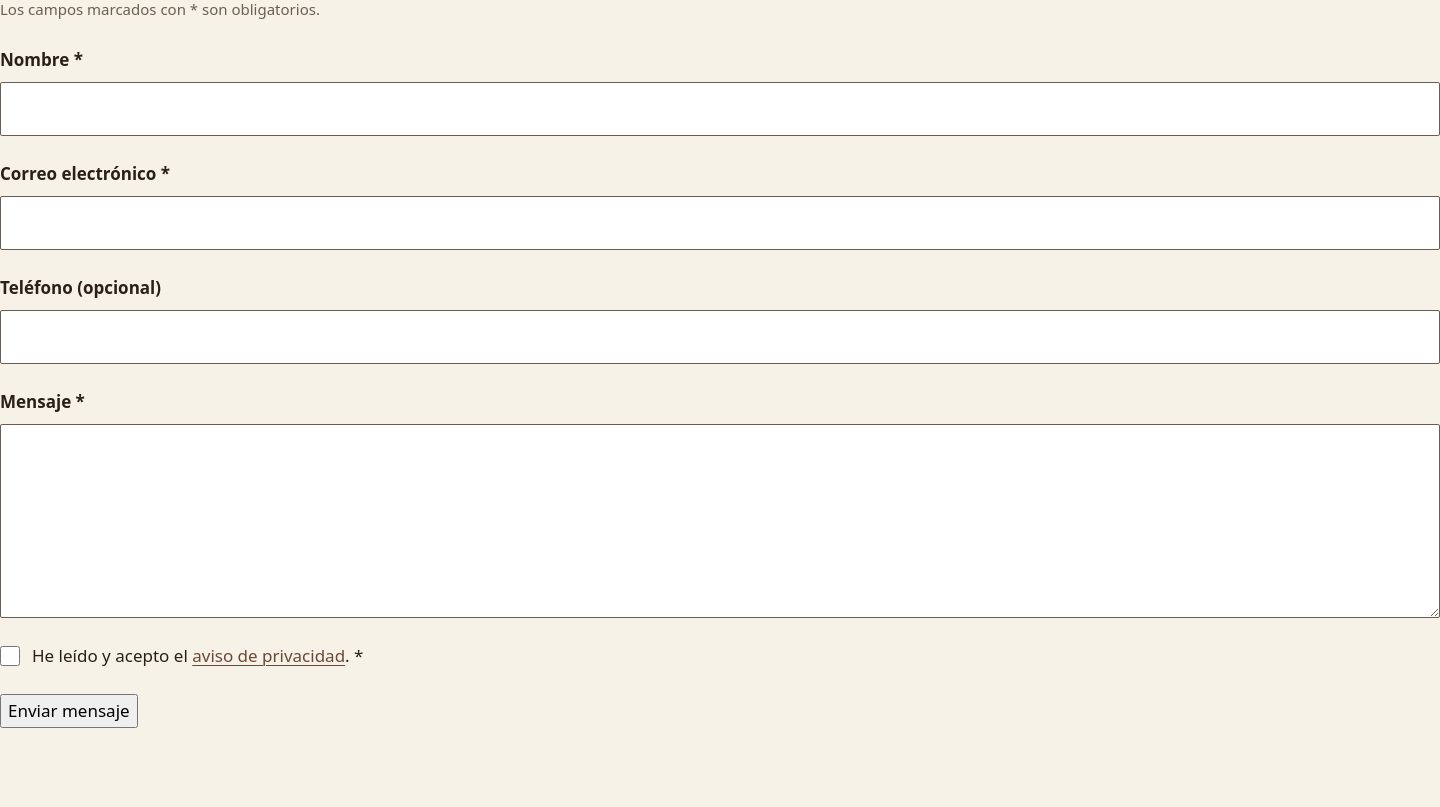
Scenario: ContactForm › warns when no destination is configured
Type "María Pérez" into the field labelled "Nombre *" at [720, 109], box [0,82,1439,136]
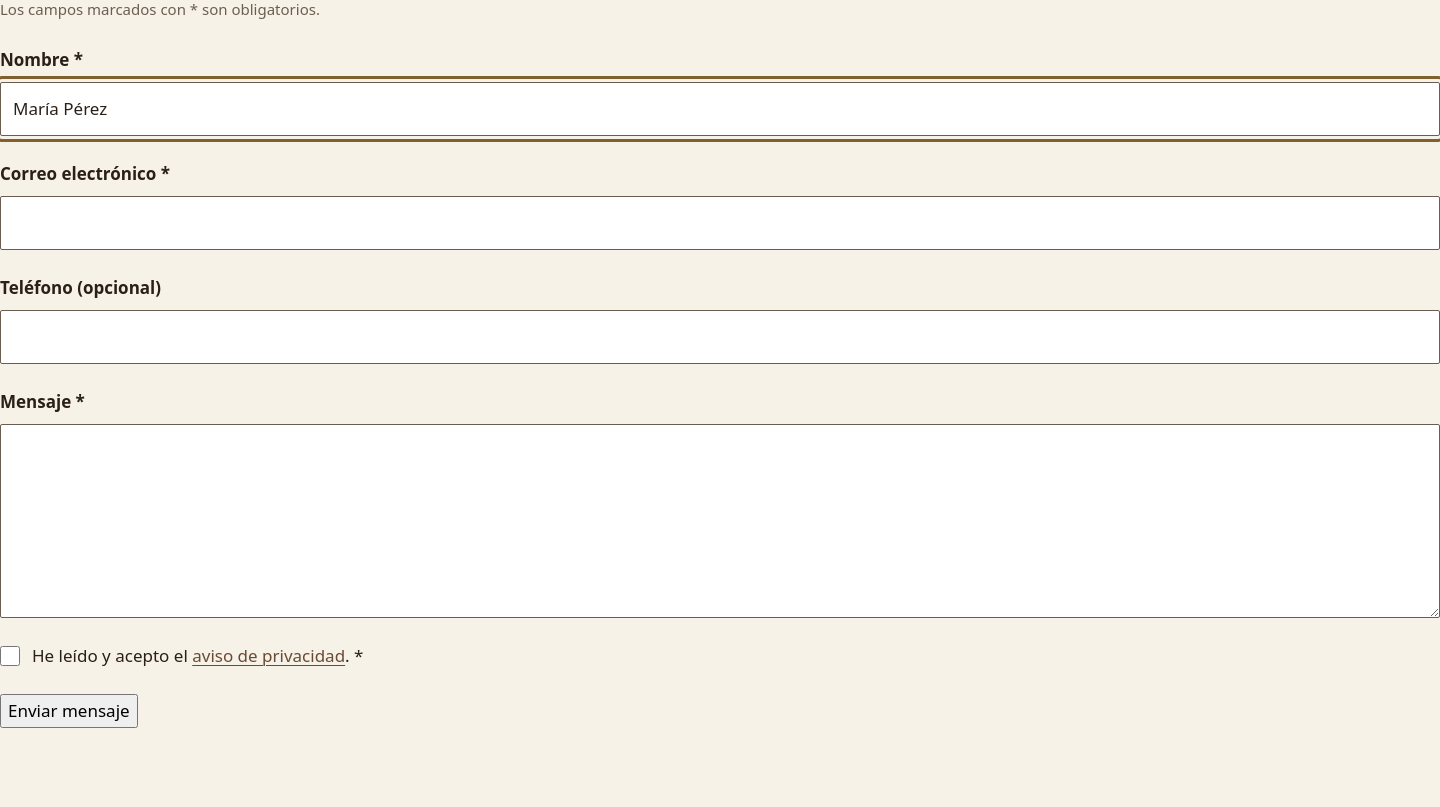
Type "maria@example.com" into the field labelled "Correo electrónico *" at [720, 223], box [0,196,1439,250]
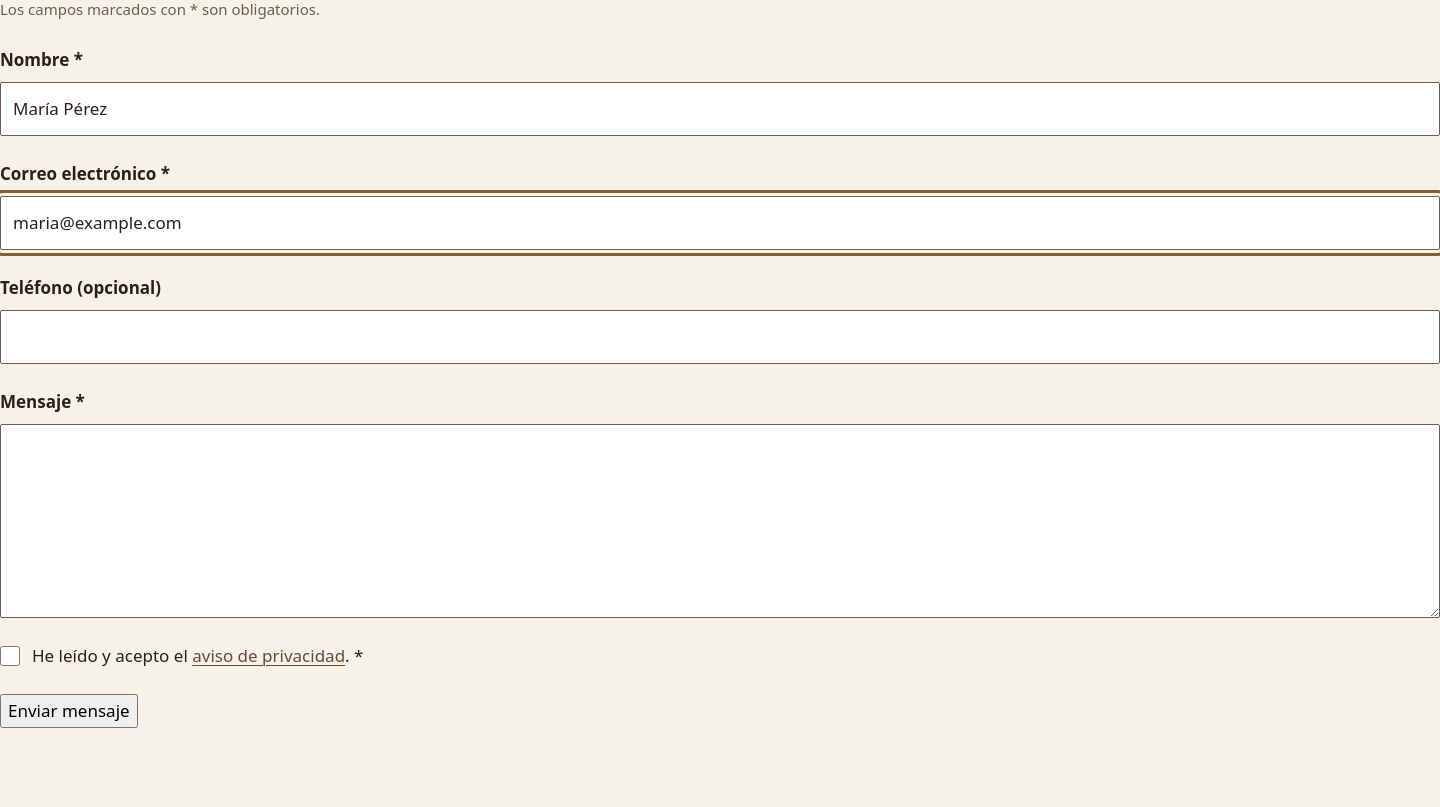
Type "Necesito una asesoría legal." into the text box labelled "Mensaje *" at [720, 521], box [0,424,1439,618]
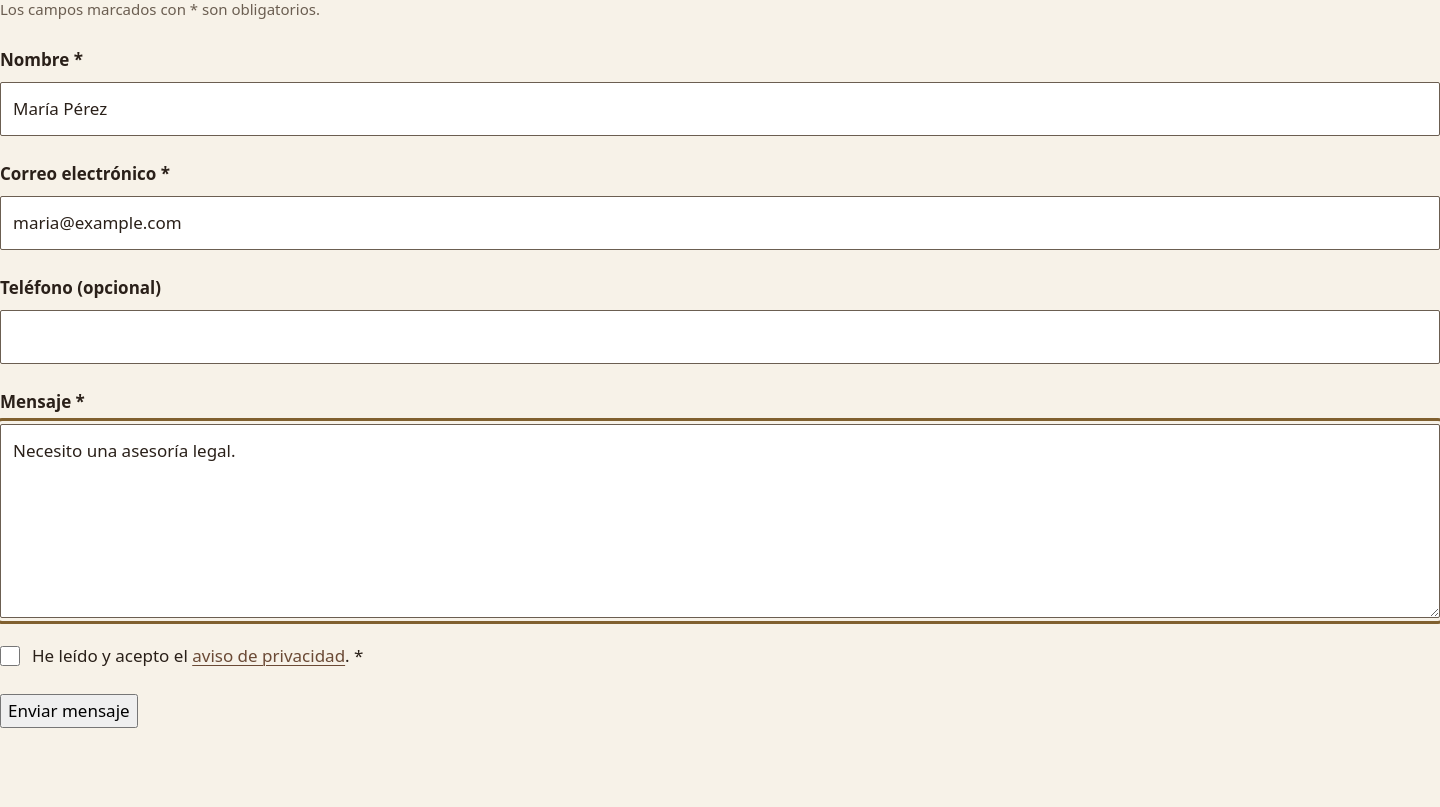
Click the checkbox labelled "He leído y acepto el aviso de privacidad . *" at [10, 656], box [0,646,20,666]
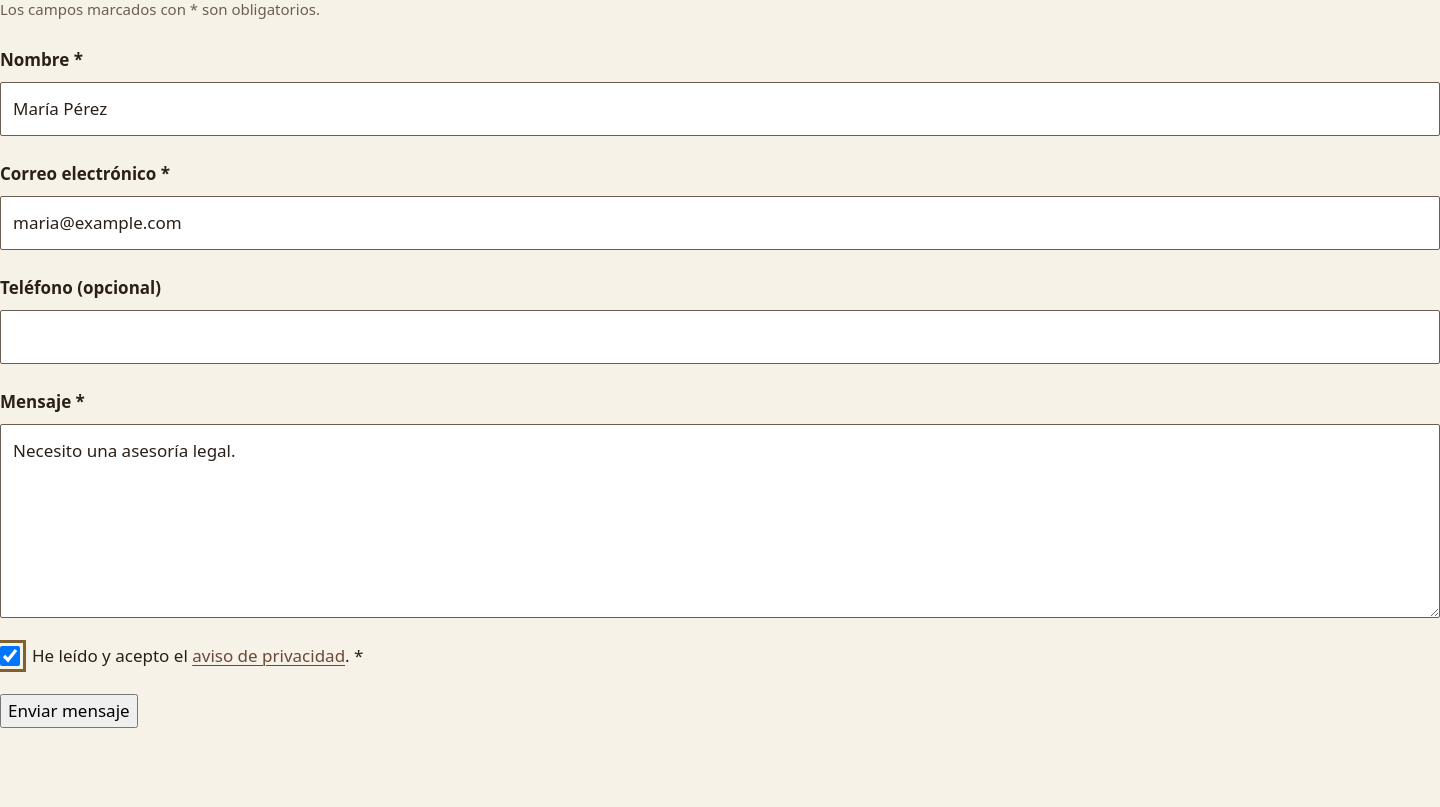
Click the button "Enviar mensaje" at [69, 711], box [0,694,138,728]
(page scrolled)
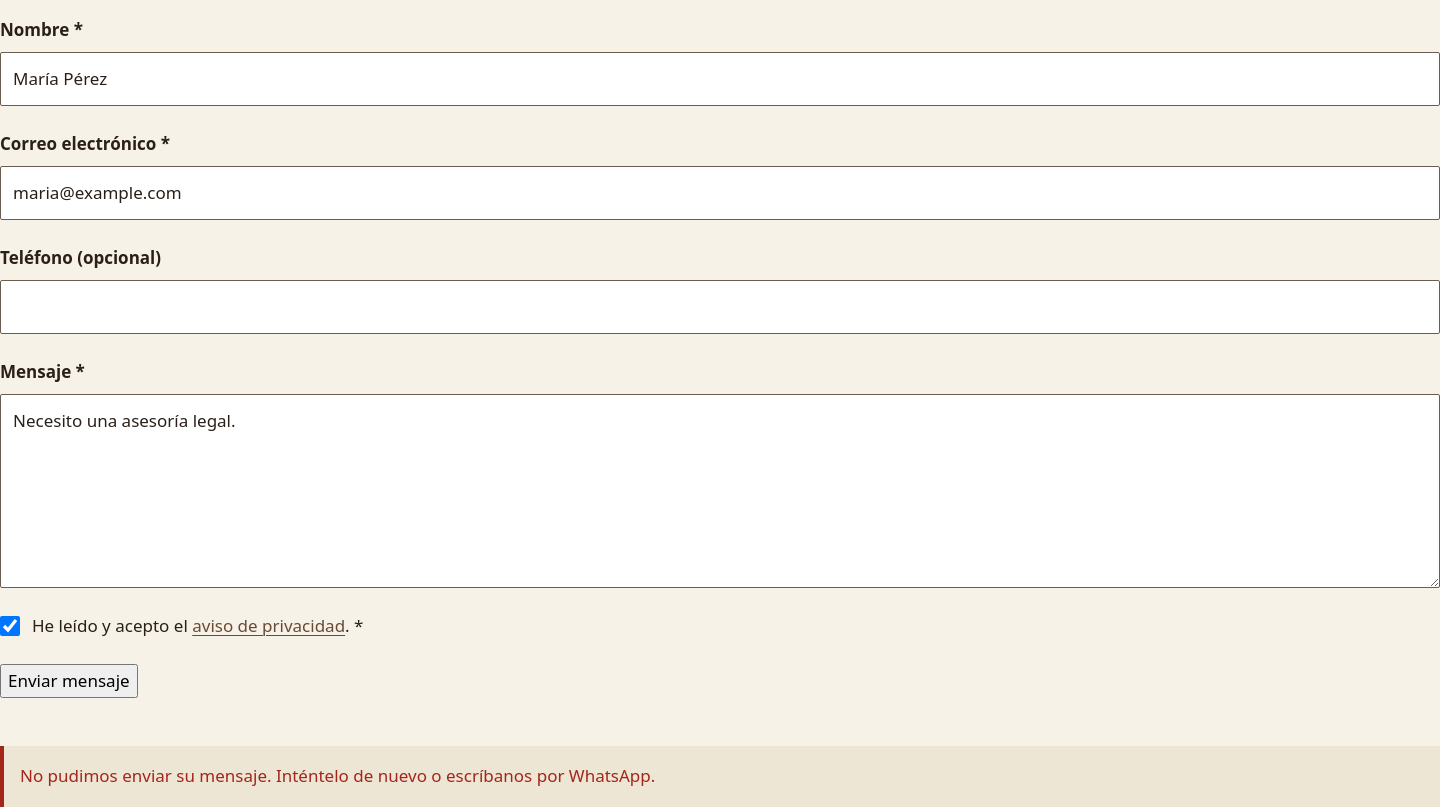
Result: the text "No pudimos enviar su mensaje" is shown at [20,764,655,788]
